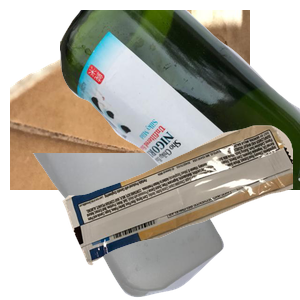cardboard: (10, 10, 250, 190)
glass: (60, 10, 300, 190)
plastic: (29, 153, 245, 300)
trash: (60, 123, 300, 300)
